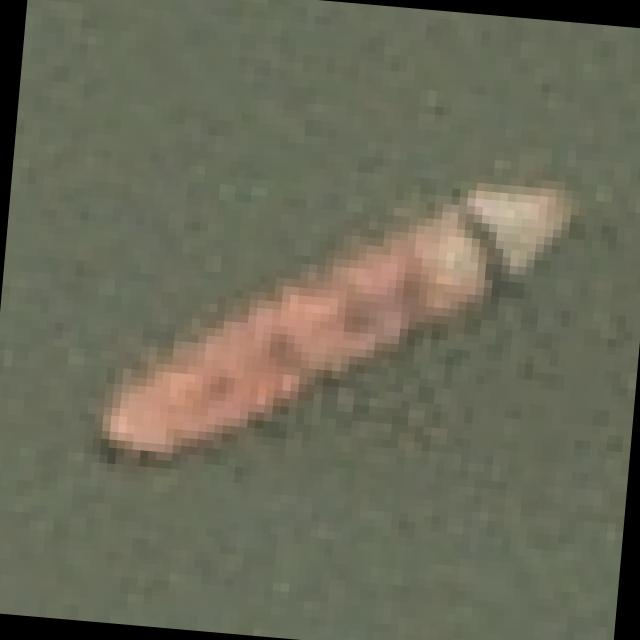ship: (74, 116, 590, 504)
